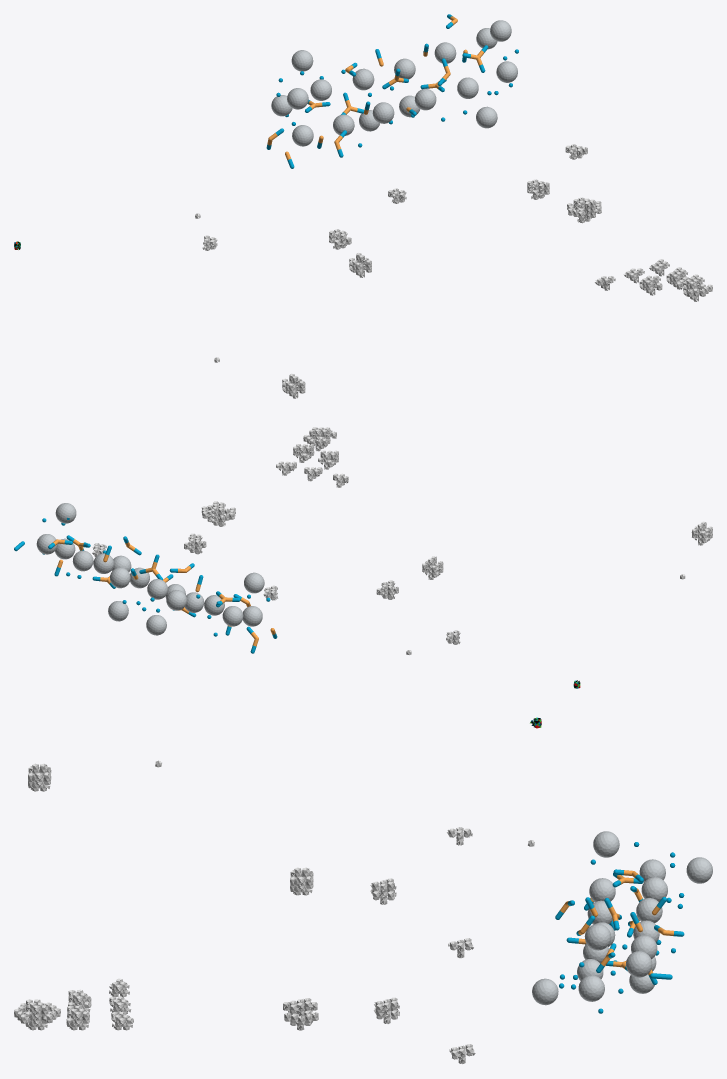
The model's file is 02_atomic_palette.fbx.
The picture shows the model from 3 angles, top to bottom: view 1: azimuth 30°, elevation 25°; view 2: azimuth 150°, elevation 25°; view 3: azimuth 270°, elevation 25°; orthographic projection. The views are drawn at different scales.
Visible parts, largest first — view 1: MeshBody1, MeshBody4, MeshBody2; view 2: MeshBody1, MeshBody4, MeshBody2; view 3: MeshBody1, MeshBody4, MeshBody2.
Boxes of the visible parts, left/top/right/bottom form: MeshBody1: left=271, top=20, right=517, bottom=146; MeshBody4: left=266, top=14, right=518, bottom=168; MeshBody2: left=267, top=16, right=484, bottom=159; MeshBody1: left=36, top=503, right=264, bottom=635; MeshBody4: left=14, top=517, right=277, bottom=653; MeshBody2: left=53, top=539, right=275, bottom=646; MeshBody1: left=532, top=831, right=712, bottom=1005; MeshBody4: left=555, top=842, right=684, bottom=1013; MeshBody2: left=560, top=870, right=674, bottom=975.
Size of the model in its own units: 57271 by 10346 by 52504.
